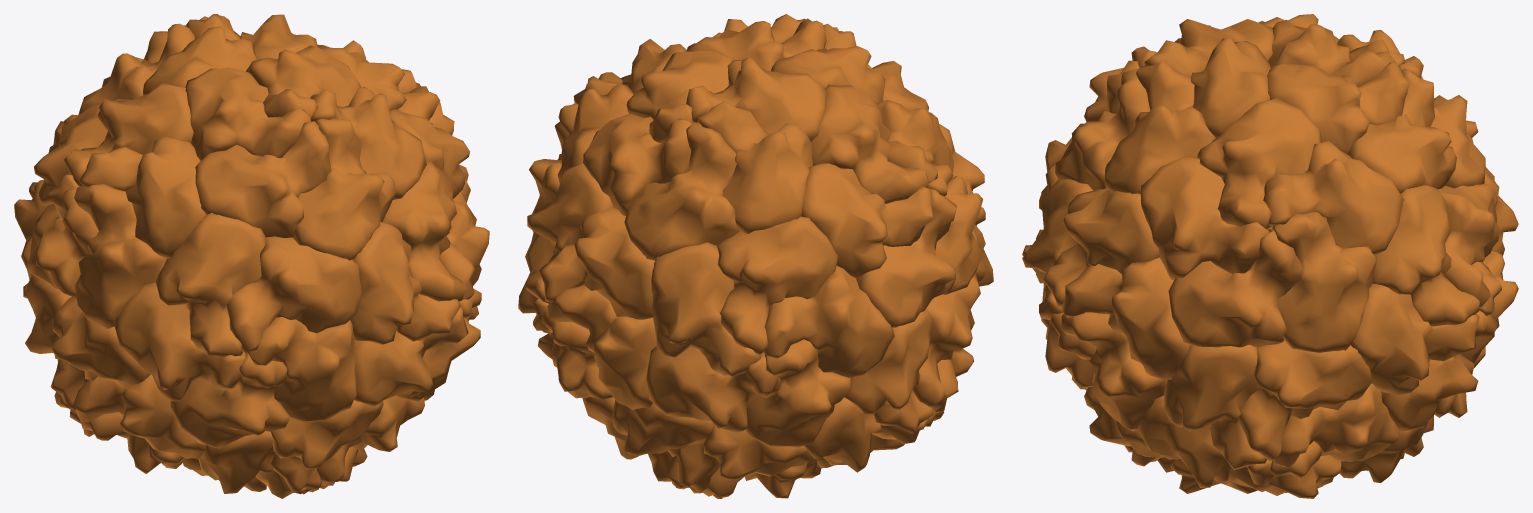
Rendered from plv_Polio.dae.
3 renders of one model, left to right at view 1: azimuth 30°, elevation 25°; view 2: azimuth 150°, elevation 25°; view 3: azimuth 270°, elevation 25°, orthographic. The views are drawn at different scales.
Parts seen in each view (by area): view 1: CoarseMS_2plv (×35); view 2: CoarseMS_2plv (×38); view 3: CoarseMS_2plv (×36).
Part boxes in pixels (x1,y1,x2,y2): CoarseMS_2plv (×35): (14,14,489,498); CoarseMS_2plv (×38): (518,14,993,498); CoarseMS_2plv (×36): (1022,19,1518,498).
Bounding box in the file's own units: 323 × 323 × 323.
